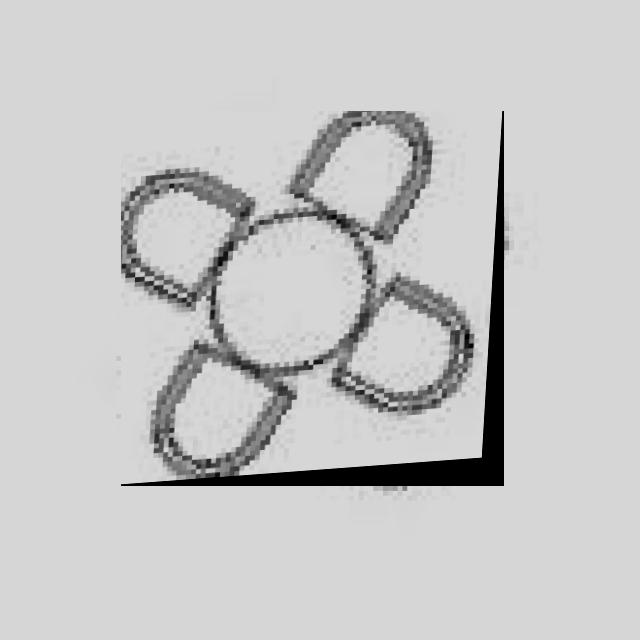table: (121, 111, 504, 486)
